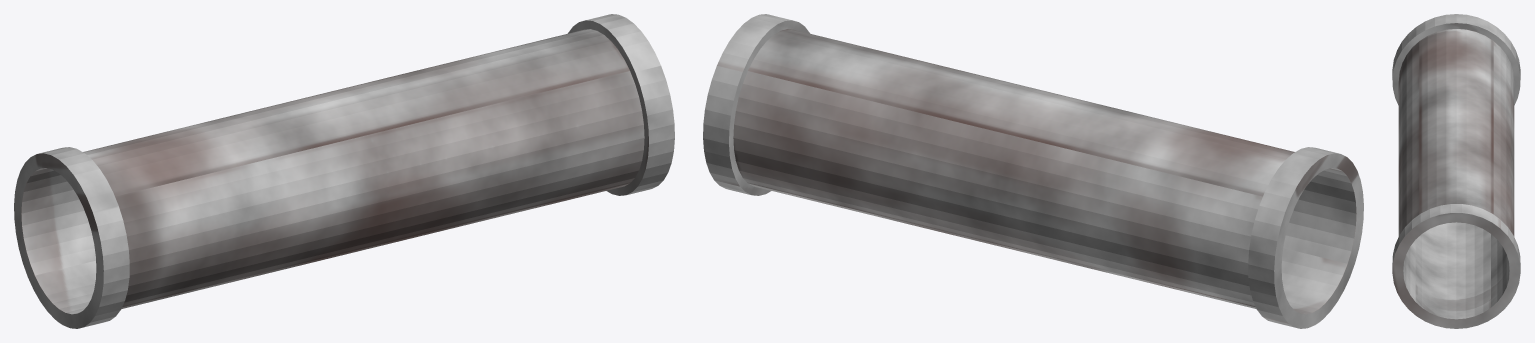
The model's file is Pipe 2.glb.
3 renders of one model, left to right at view 1: azimuth 30°, elevation 25°; view 2: azimuth 150°, elevation 25°; view 3: azimuth 270°, elevation 25°, orthographic. The views are drawn at different scales.
Parts seen in each view (by area): view 1: Pipe 200mm WE; view 2: Pipe 200mm WE; view 3: Pipe 200mm WE.
Boxes of the visible parts, <box> form: Pipe 200mm WE: <box>14,14,674,328</box>; Pipe 200mm WE: <box>703,14,1363,328</box>; Pipe 200mm WE: <box>1392,14,1520,328</box>.
Size of the model in its own units: 15.65 by 4.27 by 4.26.
Materials: 1 (1 with a texture image).
